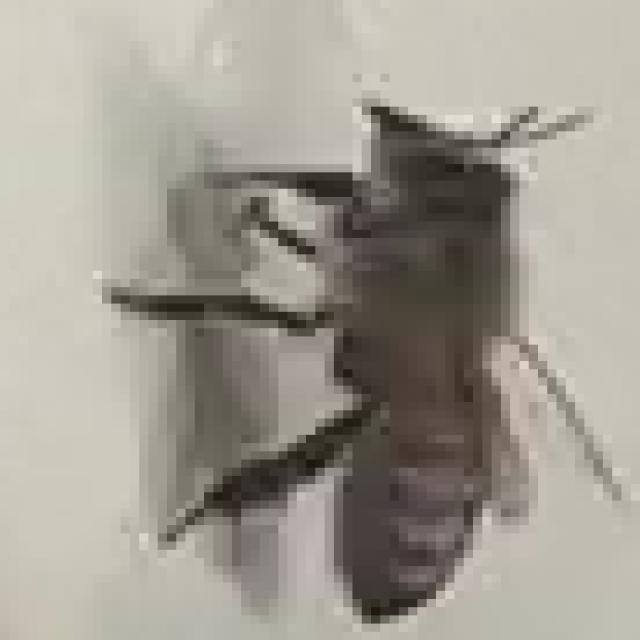honeybee: (111, 93, 556, 620)
